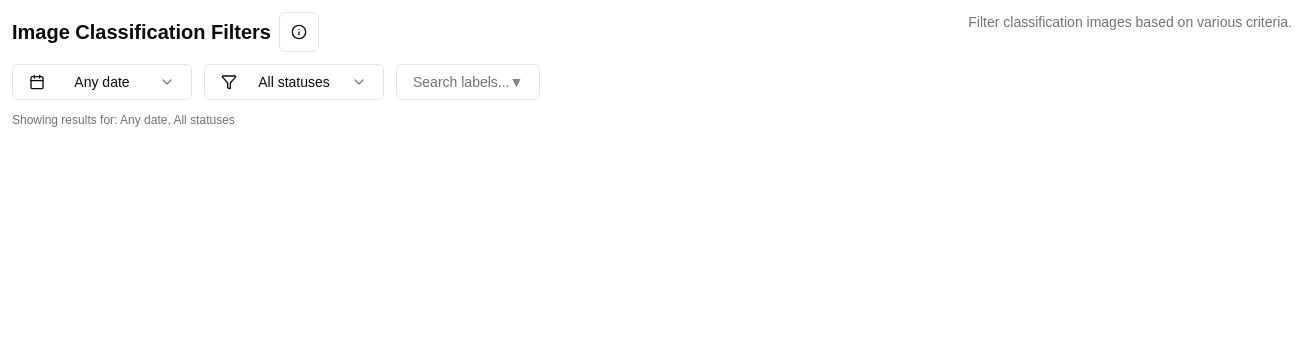
it: ImageClassificationFilter Component › updates status filter when an option is selected
The image size is (1308, 342).
What coordinates should you click on to do the following:
click the button "All statuses"
I would click on:
 (294, 82)
Its box is [204,64,384,100].
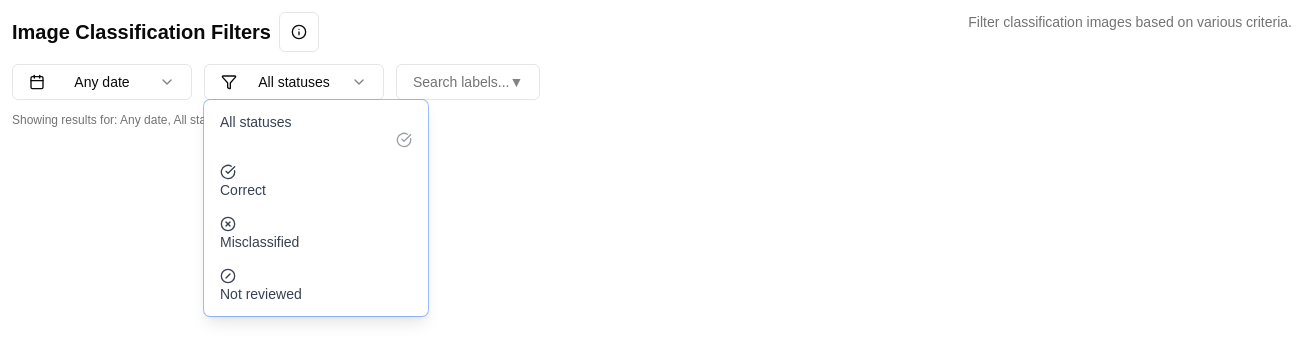
What coordinates should you click on to do the following:
click the menu item "Misclassified"
I would click on:
 (260, 233)
Its box is [220,216,299,250].
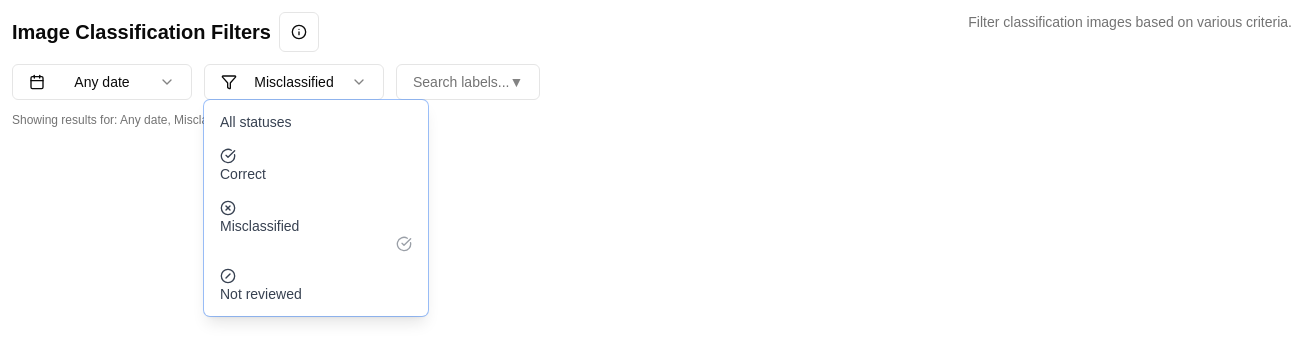
Result: the button "Misclassified" is shown at [204,64,384,100]
